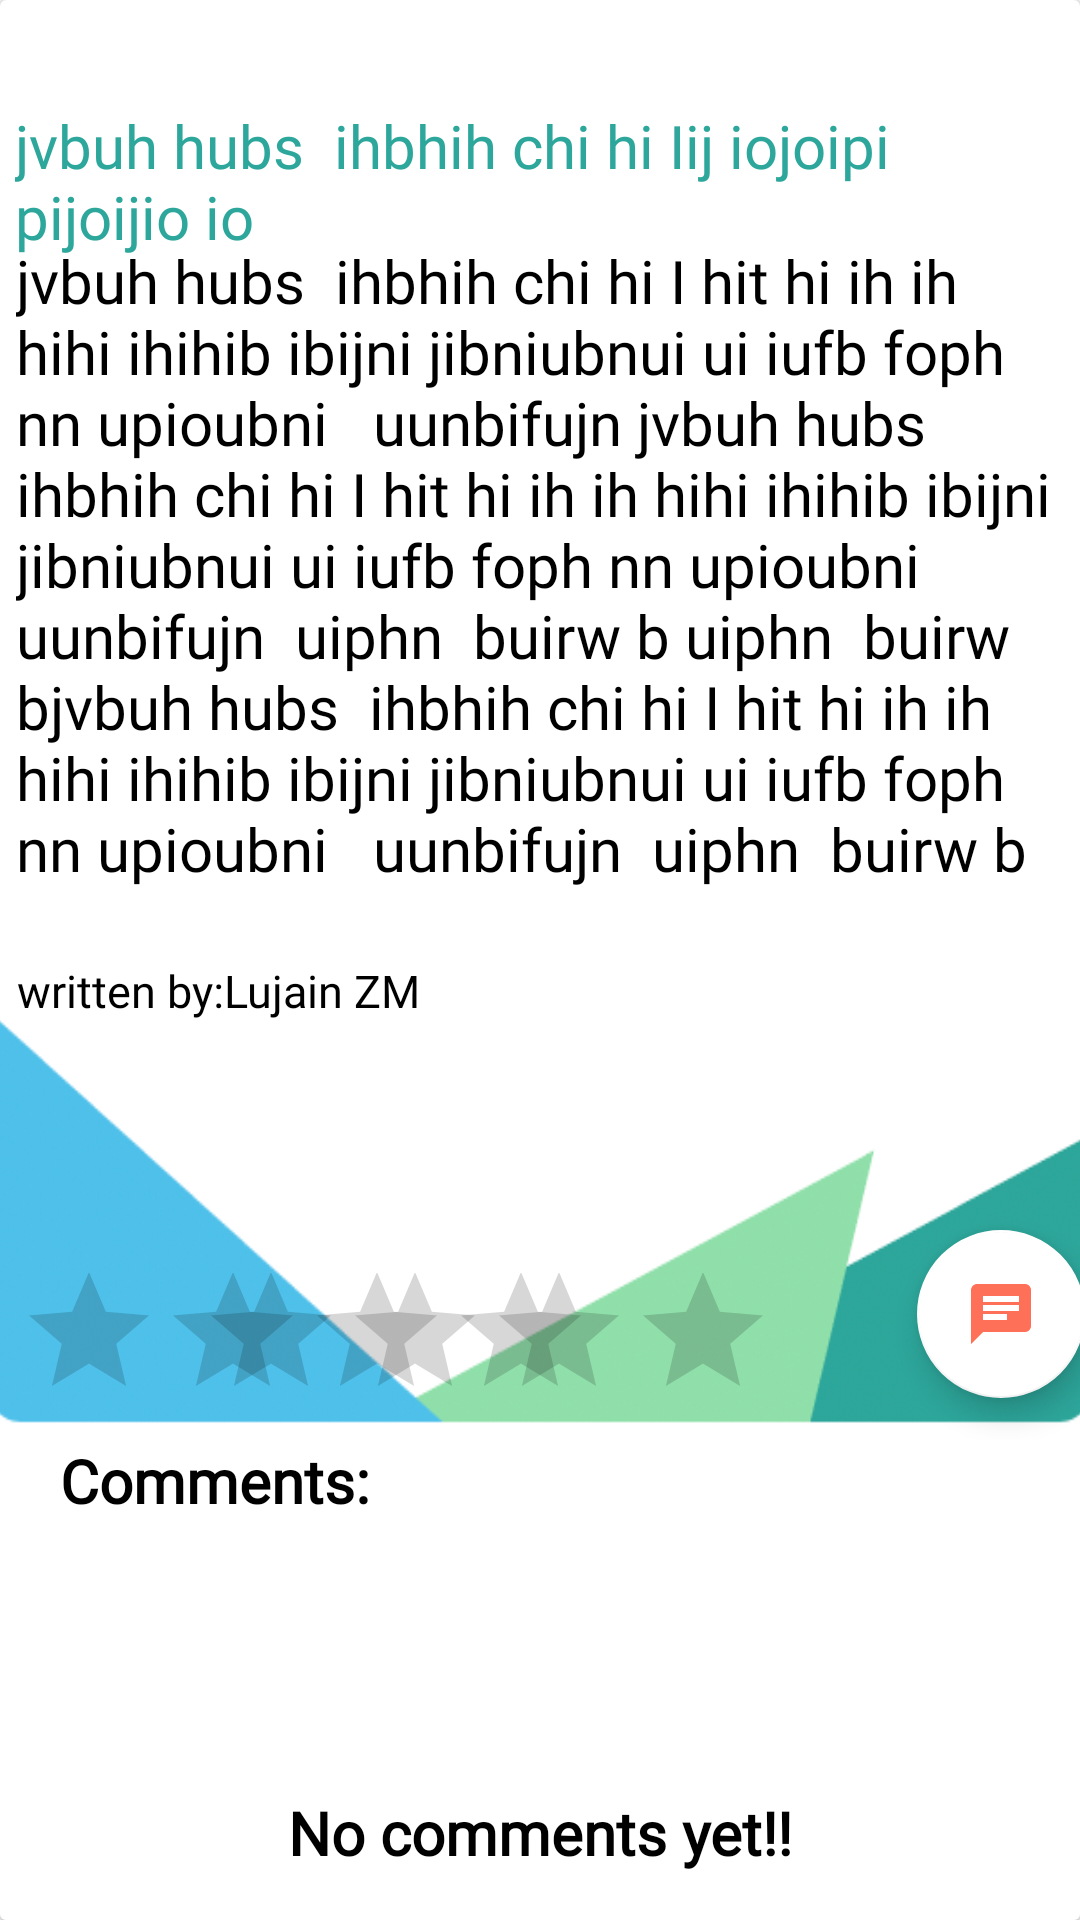

Where icons sit on this 1080*1920 app screen, as (x1, y1, x2, y2):
chat: (917, 1230, 1080, 1398)
